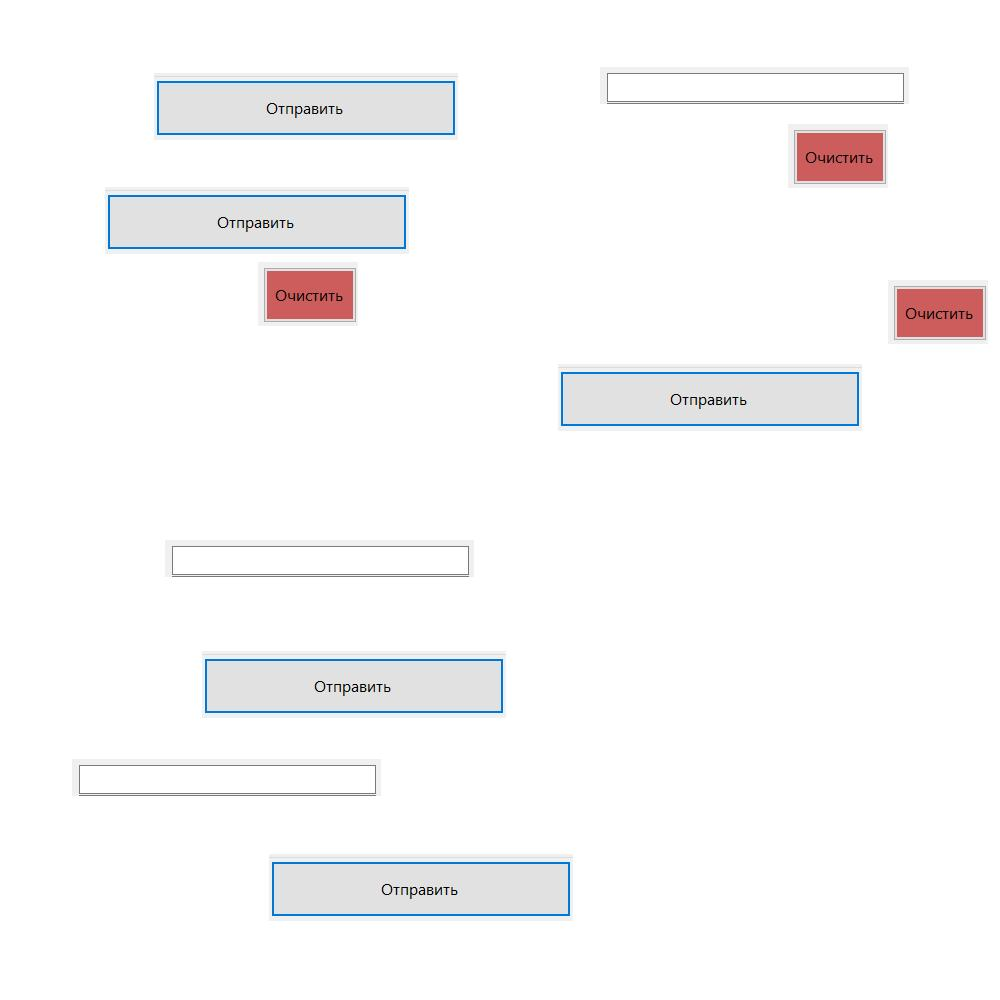Button: (154, 73, 458, 140), (105, 187, 409, 254), (269, 854, 573, 921), (558, 364, 862, 431), (202, 651, 506, 718), (788, 124, 888, 188), (258, 262, 358, 326), (888, 280, 988, 344)
EditText-: (165, 540, 474, 577), (600, 67, 909, 104), (72, 759, 381, 796)
